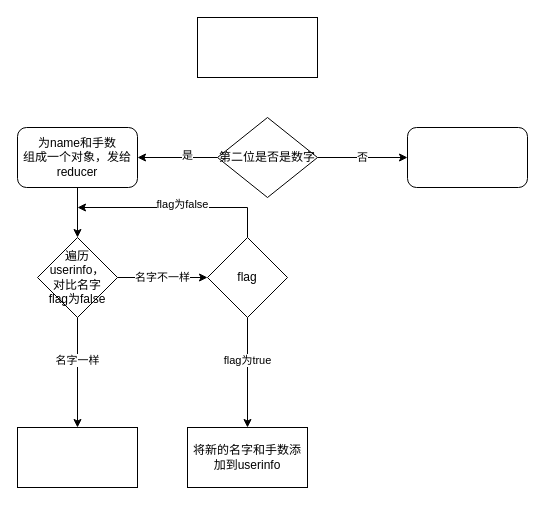
Image size: 545x505. Some labels were removed from this diagram. Here are the shapes that lost their labels. From the top down, the box of each, then its label:
(196, 16, 318, 78): 输入文字 按空格和标点分割
(406, 126, 528, 188): 多人，一起添加
(16, 426, 138, 488): 将信息添加到userinfo对于的名字上去 设置flag为true
